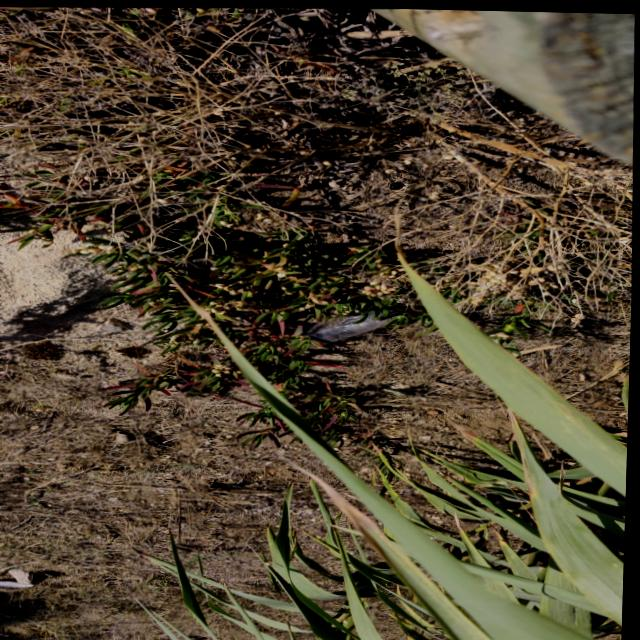Plastic: (297, 300, 409, 348)
